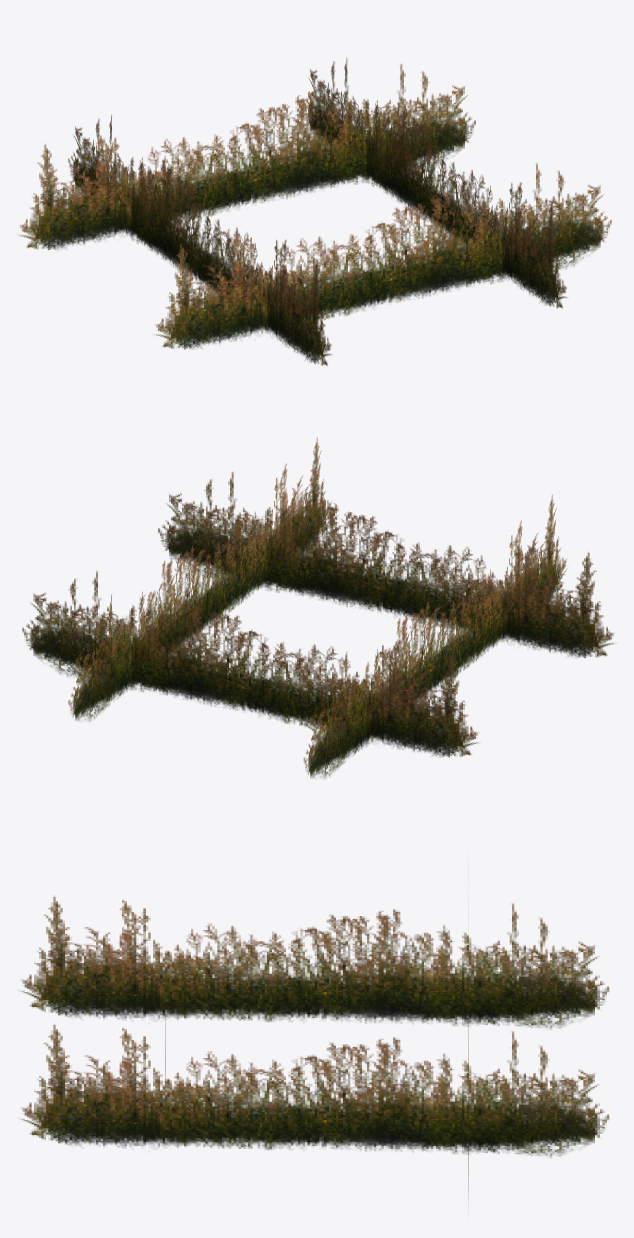
The model's file is grass.glb.
The picture shows the model from 3 angles, top to bottom: view 1: azimuth 30°, elevation 25°; view 2: azimuth 150°, elevation 25°; view 3: azimuth 270°, elevation 25°; orthographic projection. The views are drawn at different scales.
Parts seen in each view (by area): view 1: Plane.003, Plane.001, Plane, Plane.002; view 2: Plane.003, Plane.001, Plane, Plane.002; view 3: Plane.002, Plane.
Part boxes in pixels (bbox=[...]): Plane.003: bbox=[19, 64, 475, 249]; Plane.001: bbox=[156, 163, 611, 349]; Plane: bbox=[304, 58, 566, 308]; Plane.002: bbox=[68, 115, 331, 365]; Plane.003: bbox=[22, 571, 477, 757]; Plane.001: bbox=[158, 472, 614, 657]; Plane: bbox=[68, 437, 331, 720]; Plane.002: bbox=[303, 495, 566, 778]; Plane.002: bbox=[20, 896, 609, 1029]; Plane: bbox=[20, 1024, 609, 1157].
Bounding box in the file's own units: 8 × 2 × 8.
1 material, 1 textured.
